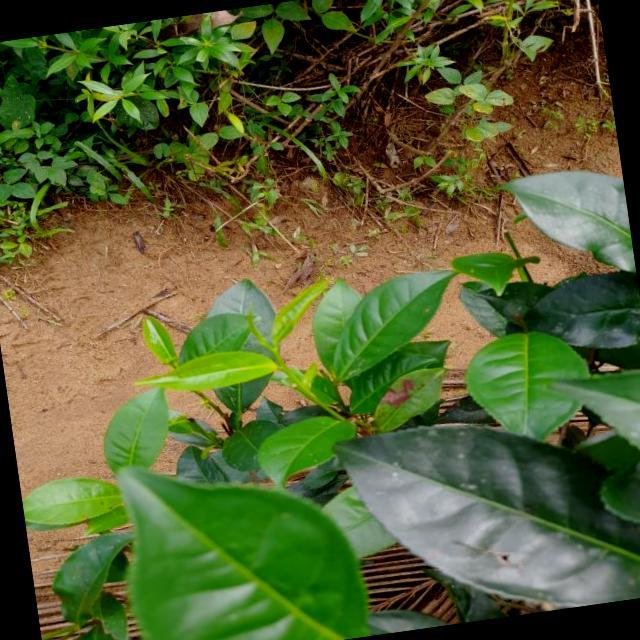Stem: (273, 348, 279, 357)
